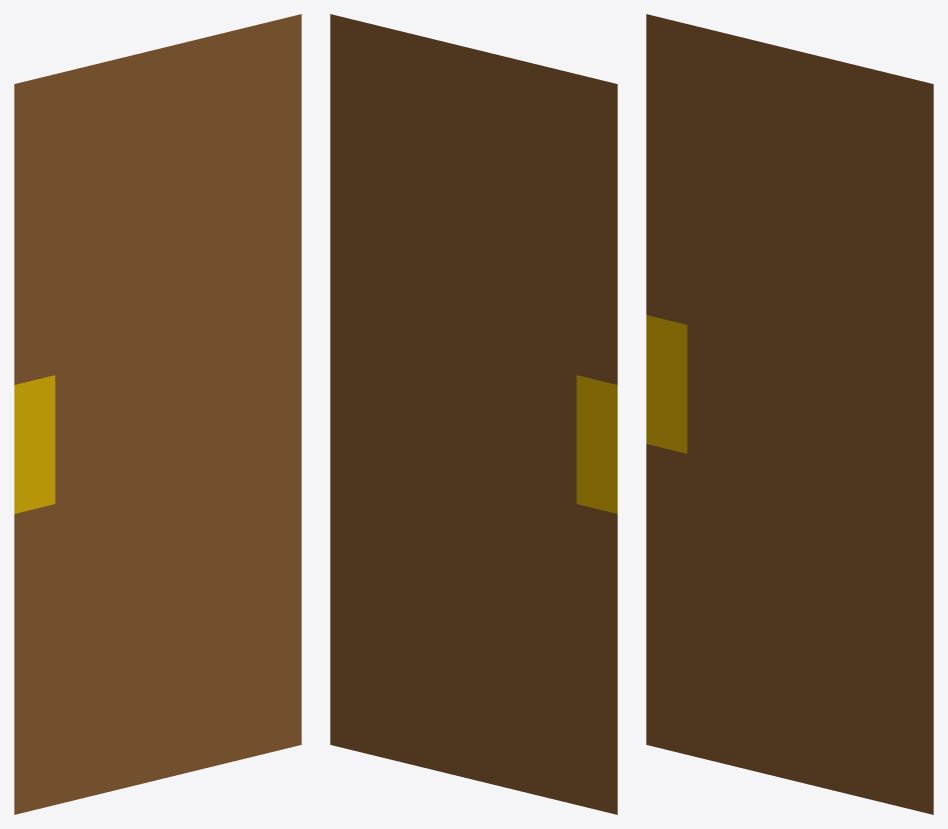
Rendered from door.glb.
3 renders of one model, left to right at view 1: azimuth 30°, elevation 25°; view 2: azimuth 150°, elevation 25°; view 3: azimuth 330°, elevation 25°, orthographic.
Parts seen in each view (by area): view 1: door; view 2: door; view 3: door.
Boxes of the visible parts, x1,y1,x2,y2 form: door: (14,14,301,814); door: (330,14,617,814); door: (646,14,933,814).
Size of the model in its own units: 0.7 by 1.7 by 4.44e-16.
Materials: 1 (1 with a texture image).
